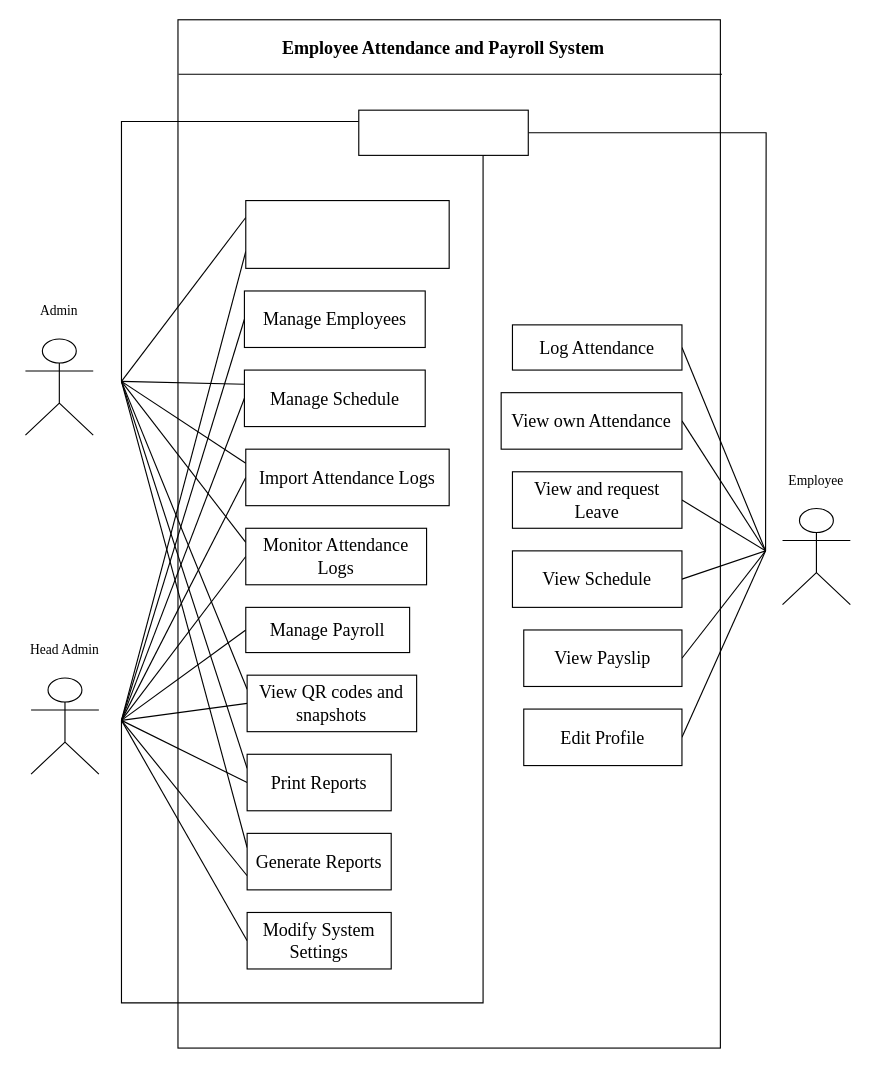
Some shapes in this 875 by 1068 pixel diagram are drawn without their labels. Here are the shapes that lost their labels. From the top down, the box of each, then its label:
(358, 109, 528, 155): Login to System
(245, 199, 449, 268): Manage Departments & Position
